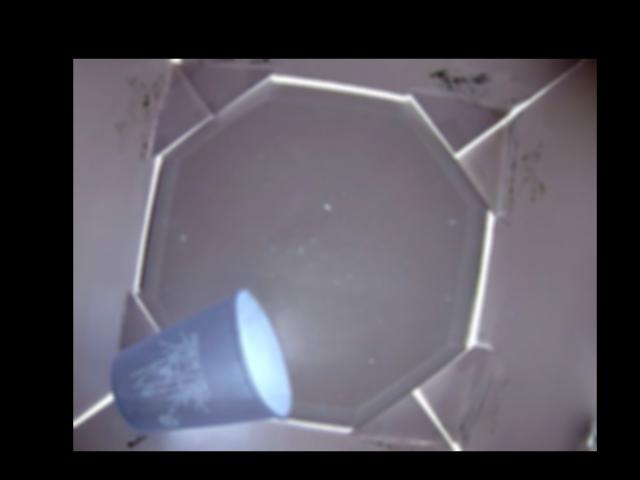Cup: (110, 288, 292, 434)
